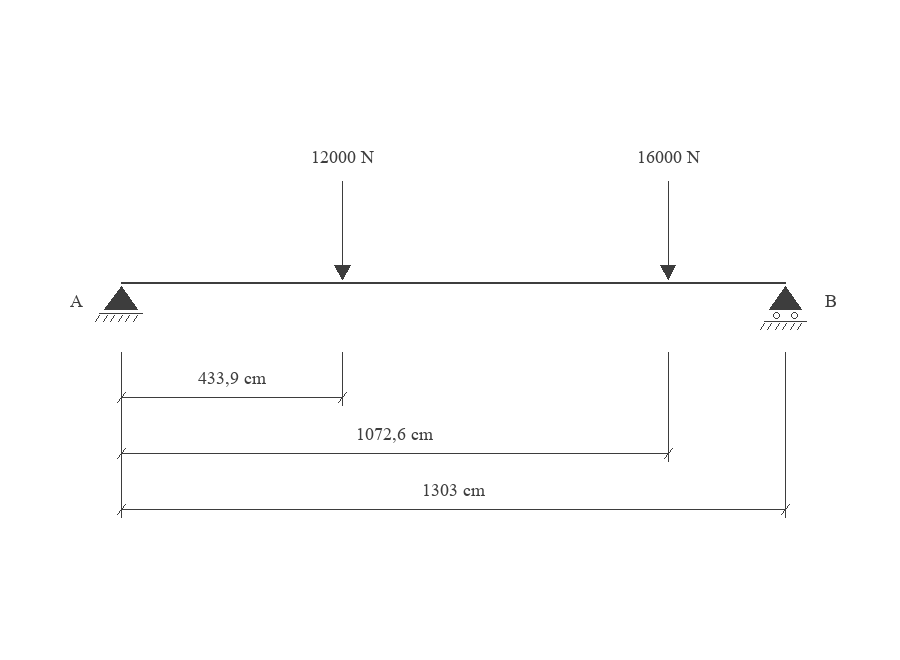pin_support: (95, 286, 143, 322)
point_load: (334, 181, 351, 280), (660, 181, 676, 280)
roller_support: (760, 286, 807, 330)
